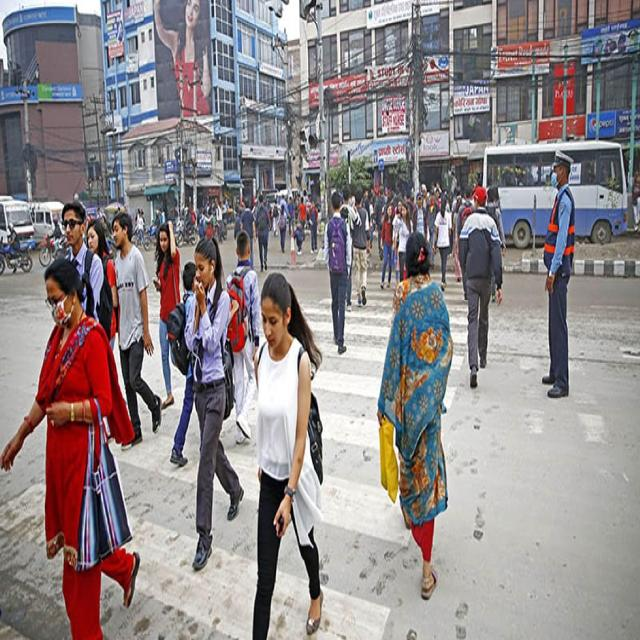body: (0, 253, 143, 639), (237, 266, 327, 639), (374, 227, 457, 599), (182, 232, 246, 574), (109, 210, 165, 452), (217, 228, 270, 446), (456, 181, 505, 391), (538, 145, 577, 402), (59, 200, 114, 346), (164, 260, 200, 468), (152, 0, 213, 122), (150, 218, 182, 411), (322, 188, 353, 356), (84, 217, 120, 352), (338, 185, 362, 312), (484, 184, 507, 304), (484, 186, 507, 304), (350, 185, 372, 307), (429, 191, 454, 294), (456, 184, 477, 304), (362, 180, 394, 229), (396, 201, 414, 283), (254, 194, 272, 274), (379, 202, 395, 290), (410, 167, 458, 196), (85, 206, 114, 253), (240, 195, 257, 270), (424, 186, 439, 270), (205, 196, 233, 241), (391, 197, 404, 287), (133, 207, 167, 239), (489, 161, 532, 186), (179, 196, 206, 233), (411, 190, 431, 239), (375, 187, 388, 256), (46, 214, 64, 258), (6, 220, 20, 276), (630, 160, 640, 233), (275, 202, 289, 253), (308, 200, 318, 254), (198, 208, 214, 240), (250, 197, 261, 241), (136, 210, 148, 250), (292, 220, 304, 258), (298, 195, 307, 241), (262, 192, 272, 231), (286, 195, 295, 237), (204, 204, 215, 238), (270, 197, 279, 237), (233, 195, 246, 220), (393, 186, 410, 204), (288, 189, 308, 204), (305, 197, 313, 229), (279, 194, 289, 218), (446, 196, 453, 215), (368, 229, 373, 244)
